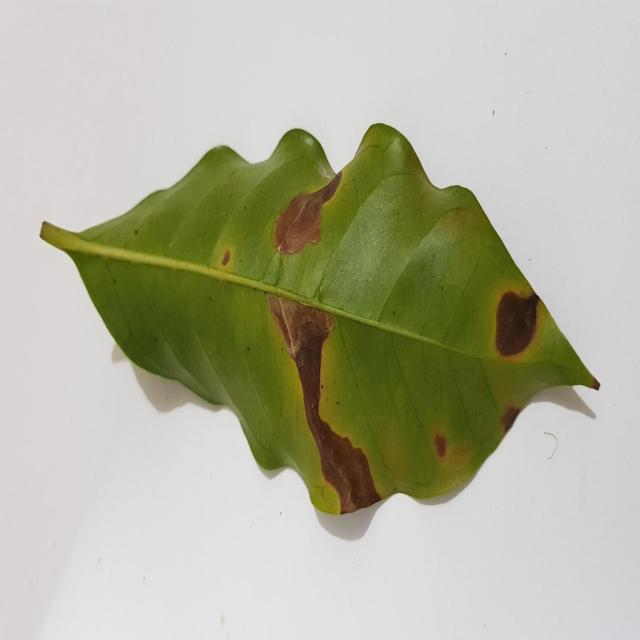Plaga-Minador: (39, 124, 601, 517)
